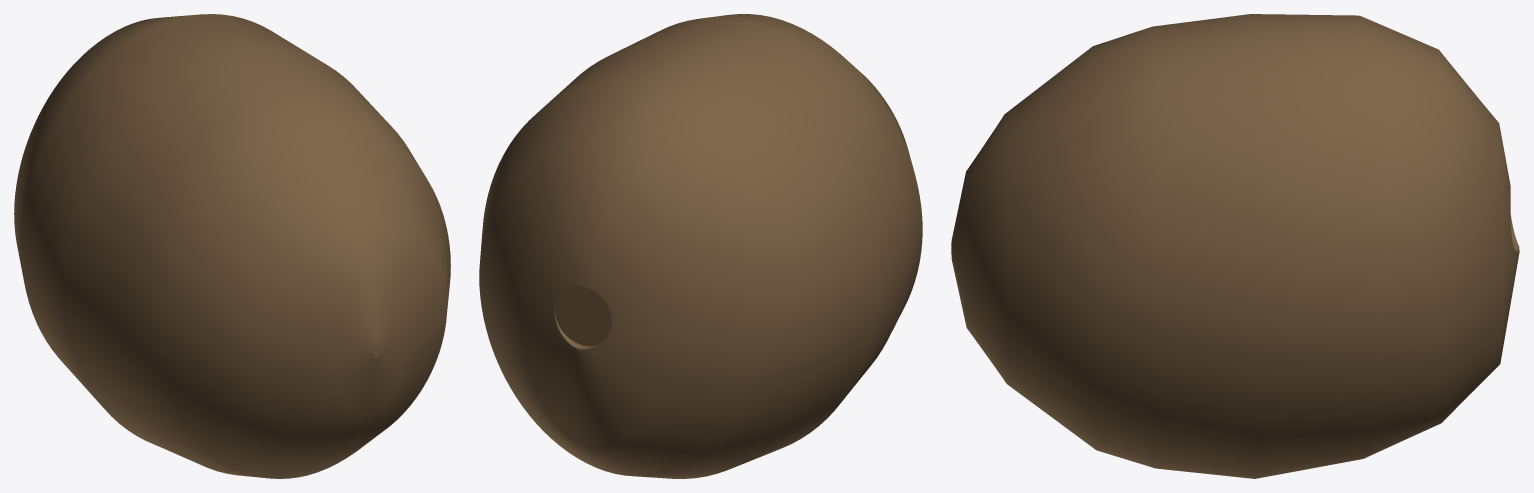
File: simready-food_produce_kiwi_a00.glb
3 renders of one model, left to right at view 1: azimuth 30°, elevation 25°; view 2: azimuth 150°, elevation 25°; view 3: azimuth 270°, elevation 25°, orthographic. The views are drawn at different scales.
Parts seen in each view (by area): view 1: skin; view 2: skin; view 3: skin.
Boxes of the visible parts, x1=… form: skin: x1=14, y1=14, x2=450, y2=478; skin: x1=479, y1=14, x2=922, y2=478; skin: x1=951, y1=14, x2=1519, y2=478.
Bounding box in the file's own units: 0.0432 × 0.0482 × 0.0575.
